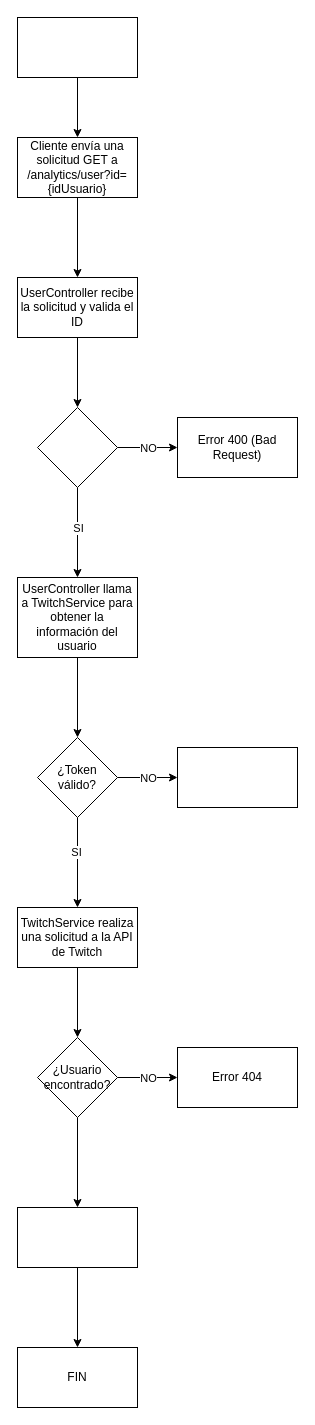
Some shapes in this 315 by 1425 pixel diagram are drawn without their labels. Here are the shapes that lost their labels. From the top down, the centre of each, then its label:
At point (77, 47): "Inicio".
At point (77, 447): "¿ID válido?".
At point (237, 777): "Error 401".
At point (77, 1237): "Devolver la información del usuario con estado 200 (OK)".
